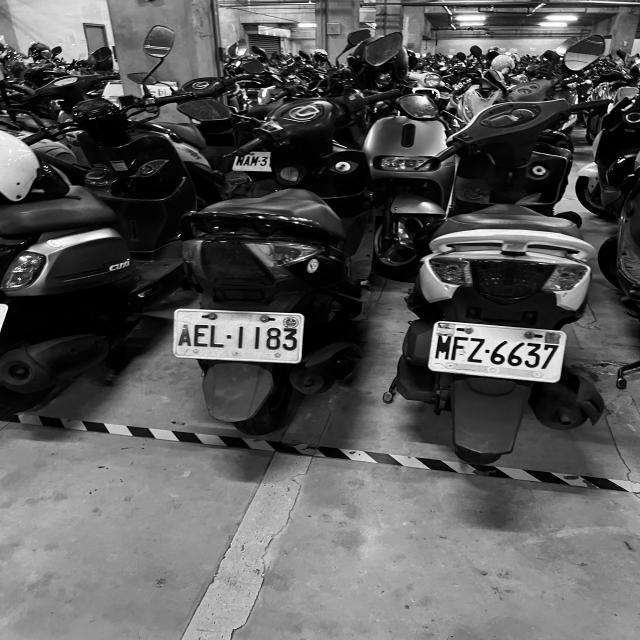-: (226, 334, 233, 340), (484, 348, 490, 354), (258, 160, 261, 162)
1: (238, 326, 244, 350), (255, 326, 261, 350)
3: (526, 342, 542, 368), (283, 327, 298, 351), (262, 156, 268, 167)
6: (491, 339, 506, 365), (508, 342, 524, 366)
7: (540, 344, 558, 369)
8: (266, 327, 282, 350)
A: (178, 322, 192, 346), (243, 156, 252, 166)
E: (194, 322, 208, 348)
F: (451, 336, 467, 360)
L: (210, 324, 225, 349)
M: (435, 335, 451, 360), (250, 156, 260, 166)
Z: (468, 337, 485, 363)
plate: (427, 321, 566, 383), (175, 310, 302, 363)
